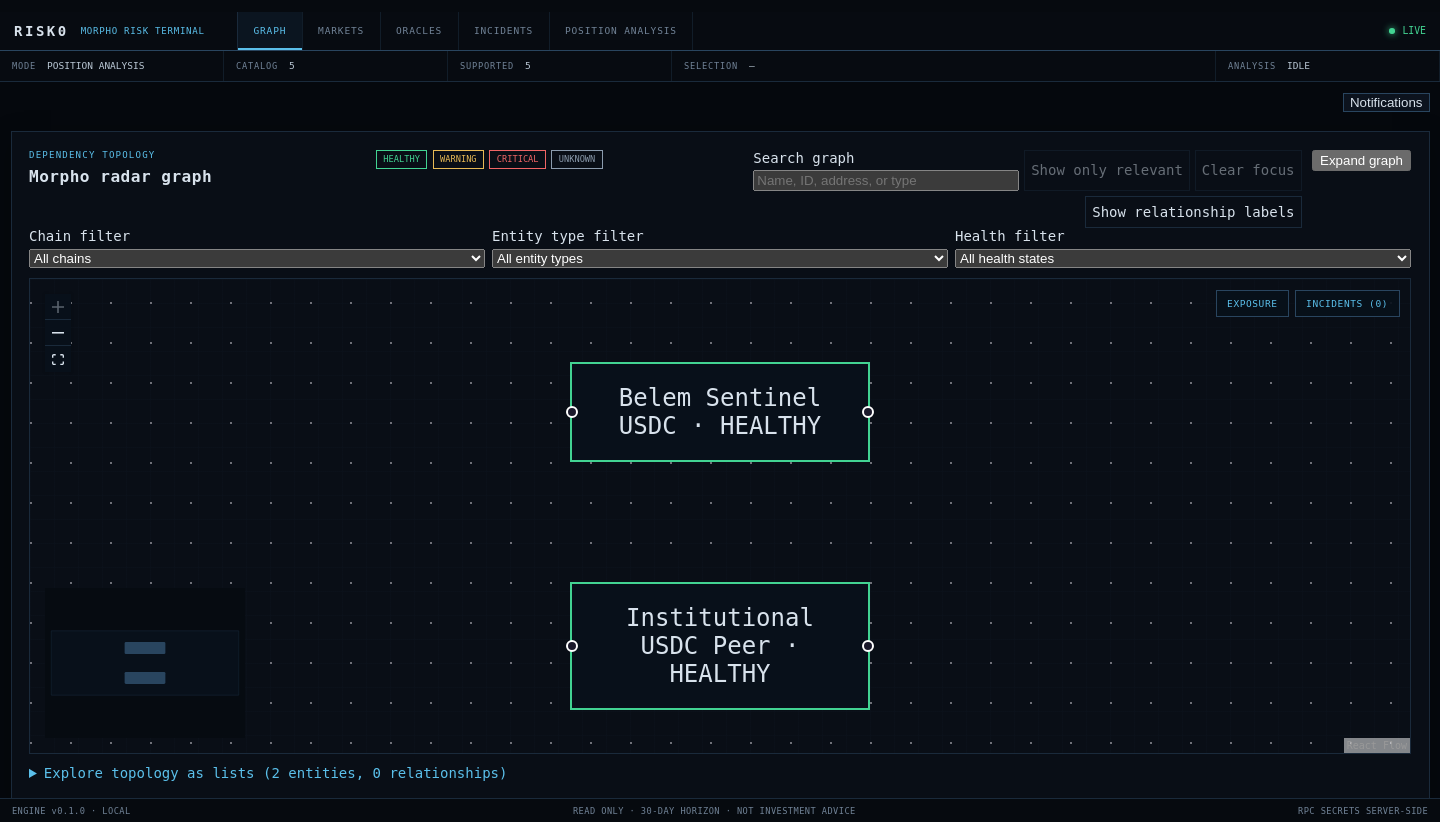
it: Home › starts graph-first with both panels closed on narrow screens
Click the button "Exposure": click(1252, 303) [1216,290,1289,317]
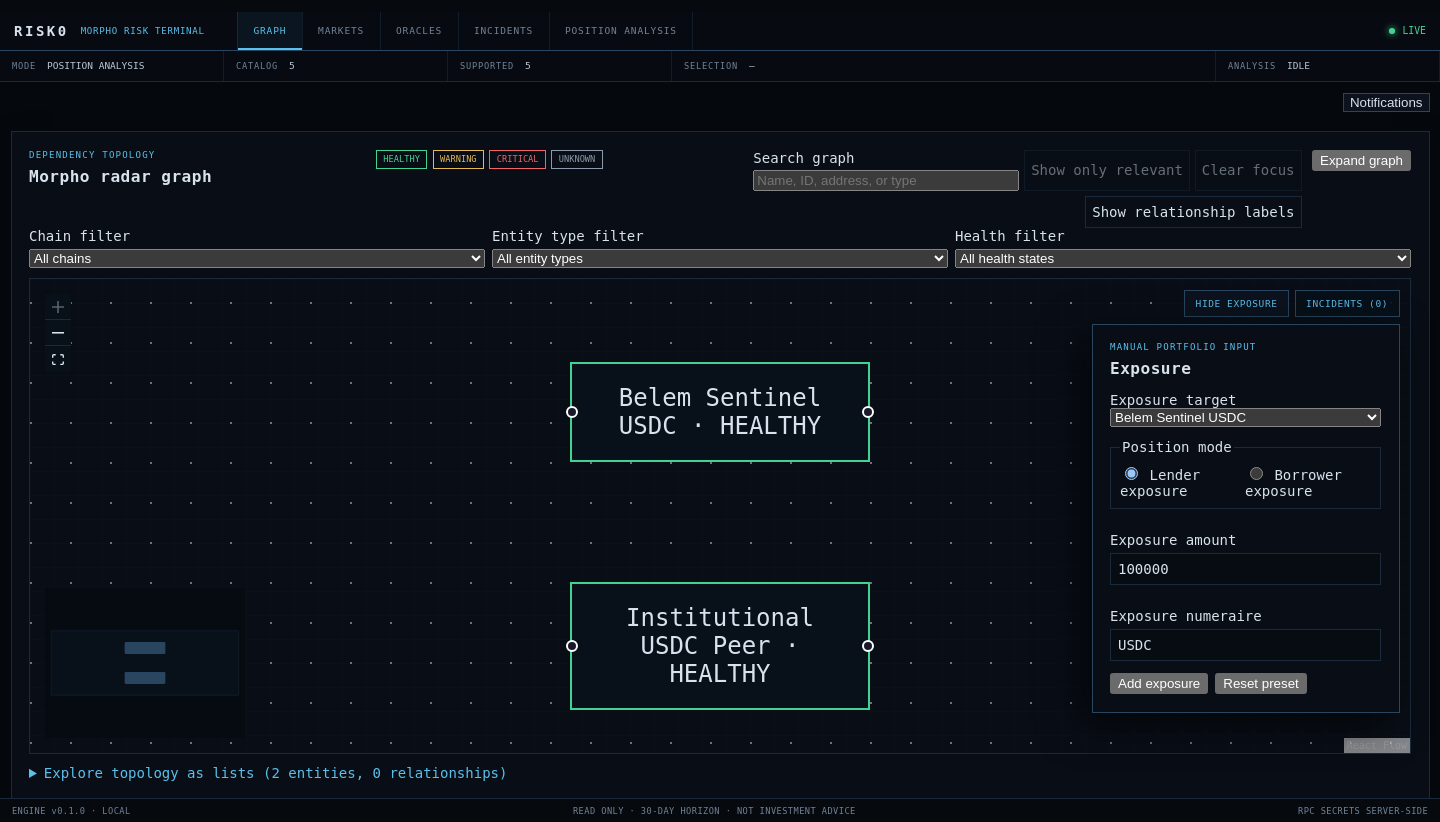
Click the button "Incidents (0)": click(1347, 303) [1295,290,1400,317]
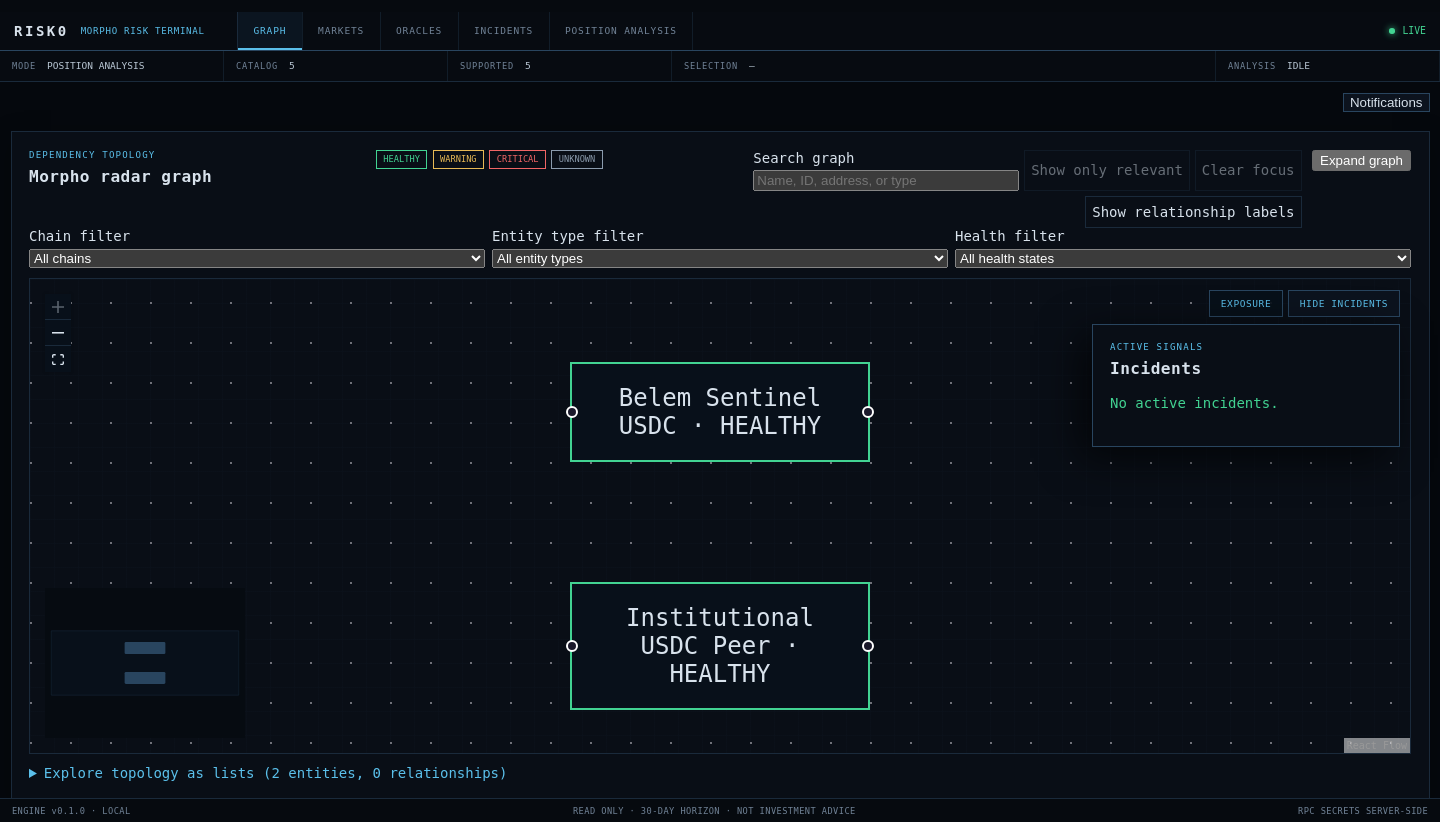
expect the heading "Incidents" is shown: met, box [1110,359,1202,378]
Click the button "Exposure": click(1246, 303) [1209,290,1283,317]
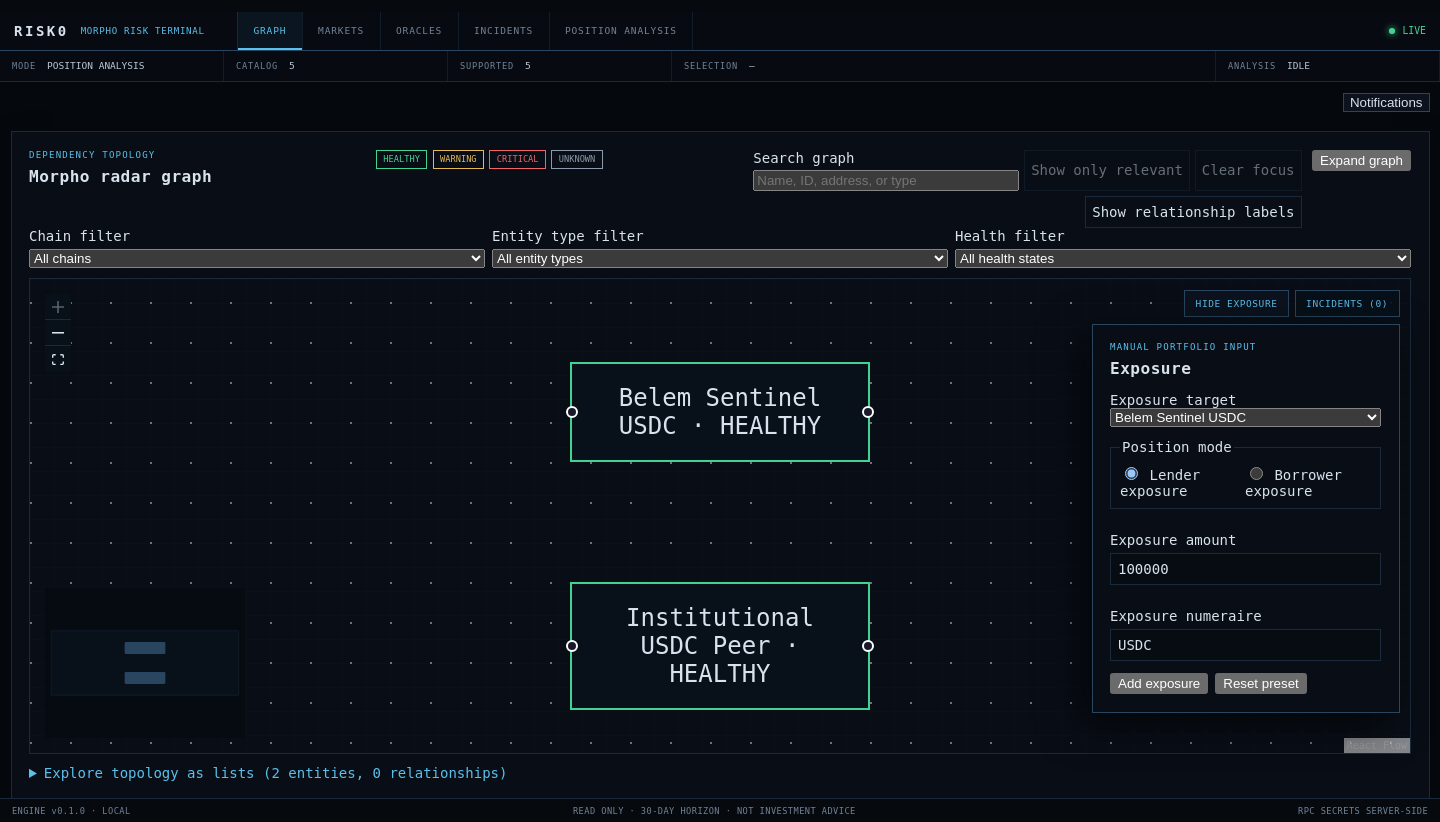
expect the element "Exposure" is shown: met, box [1092,325,1398,712]
